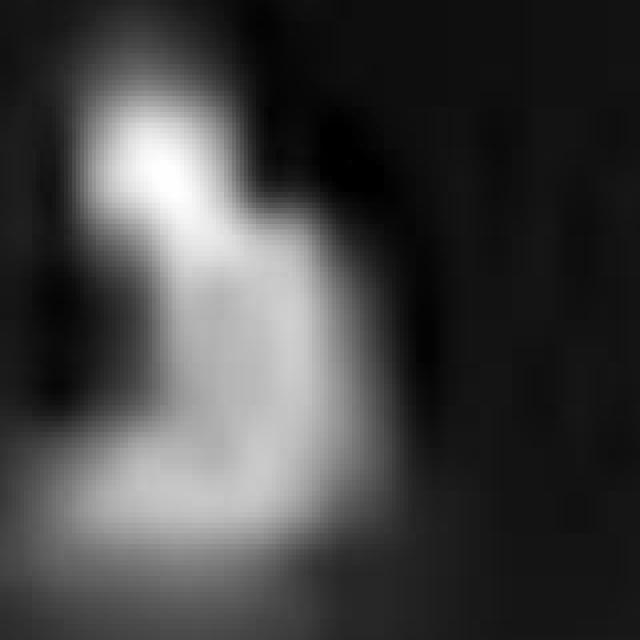person: (16, 66, 420, 557)
